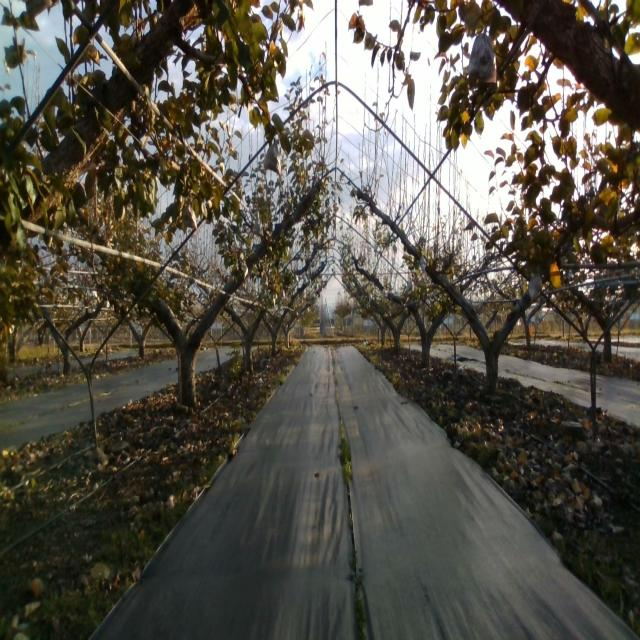pearbags: (467, 27, 497, 80), (264, 137, 282, 176), (526, 266, 543, 304), (181, 203, 198, 231), (253, 211, 264, 237)
